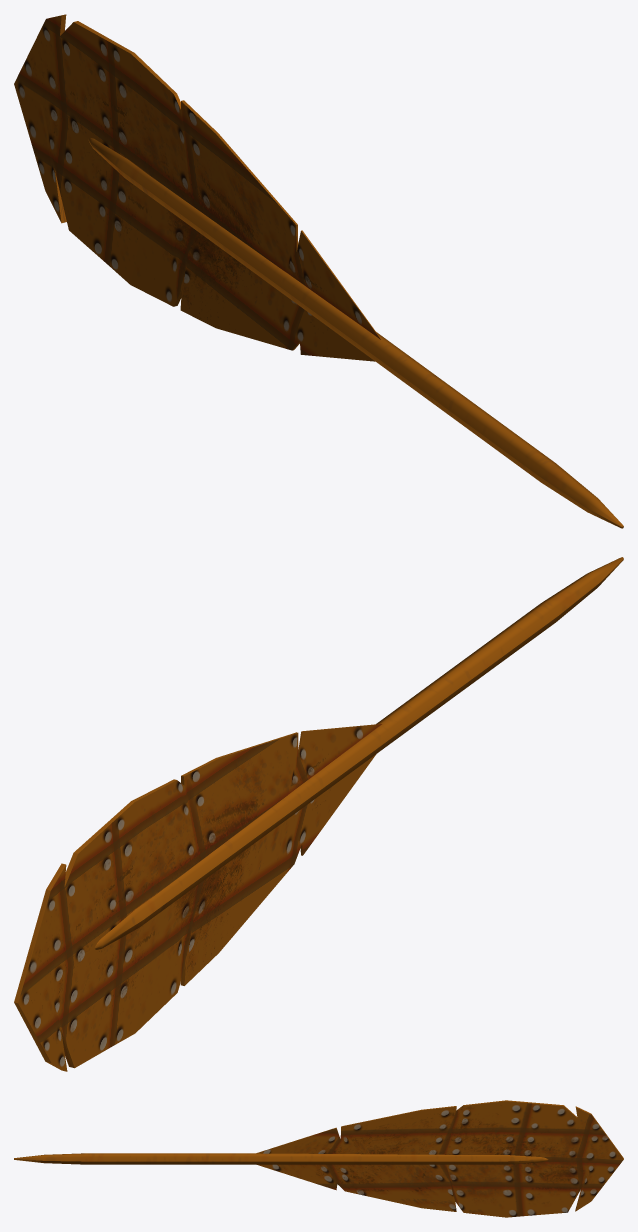
Rendered from feather_Asset.fbx.
The picture shows the model from 3 angles, top to bottom: view 1: azimuth 30°, elevation 25°; view 2: azimuth 150°, elevation 25°; view 3: azimuth 270°, elevation 25°; orthographic projection. The views are drawn at different scales.
Parts seen in each view (by area): view 1: feather, stick; view 2: feather, stick; view 3: feather, stick.
Boxes of the visible parts, bbox=[...] form: feather: bbox=[14, 14, 381, 361]; stick: bbox=[88, 138, 623, 528]; feather: bbox=[14, 724, 381, 1071]; stick: bbox=[94, 557, 623, 949]; feather: bbox=[256, 1100, 623, 1217]; stick: bbox=[14, 1153, 548, 1164].
Size of the model in its own units: 1.63 by 16.77 by 79.74.
